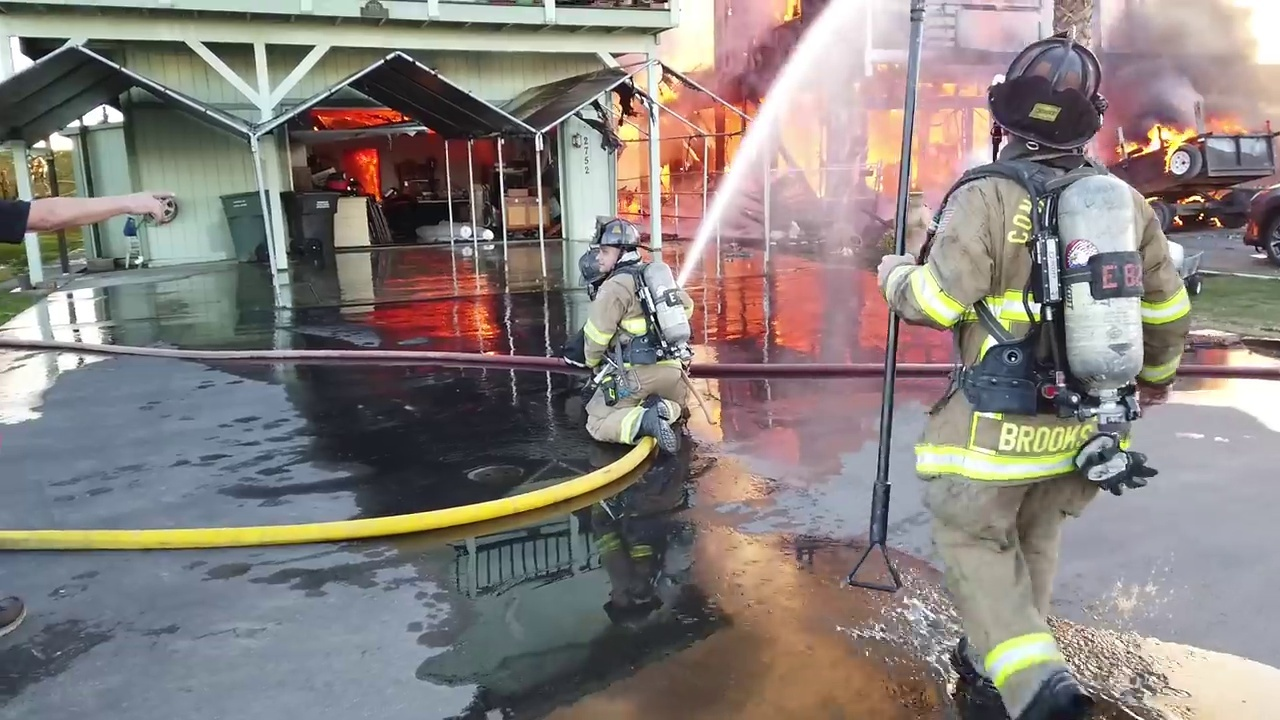fire: (606, 101, 713, 220), (864, 94, 992, 189), (786, 90, 835, 198), (1119, 121, 1195, 166), (331, 143, 384, 200), (769, 1, 805, 37), (1209, 113, 1246, 134), (1178, 189, 1222, 201)
smoke: (765, 84, 868, 370), (1099, 1, 1277, 118), (676, 2, 767, 78), (960, 10, 1053, 42)
